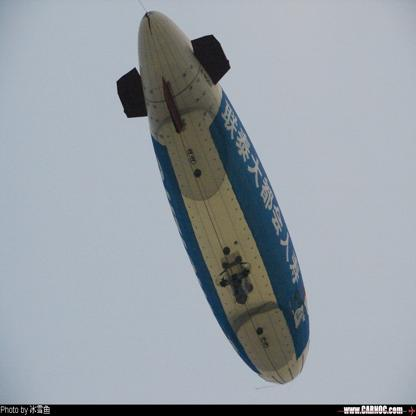Airship: (115, 8, 333, 389)
